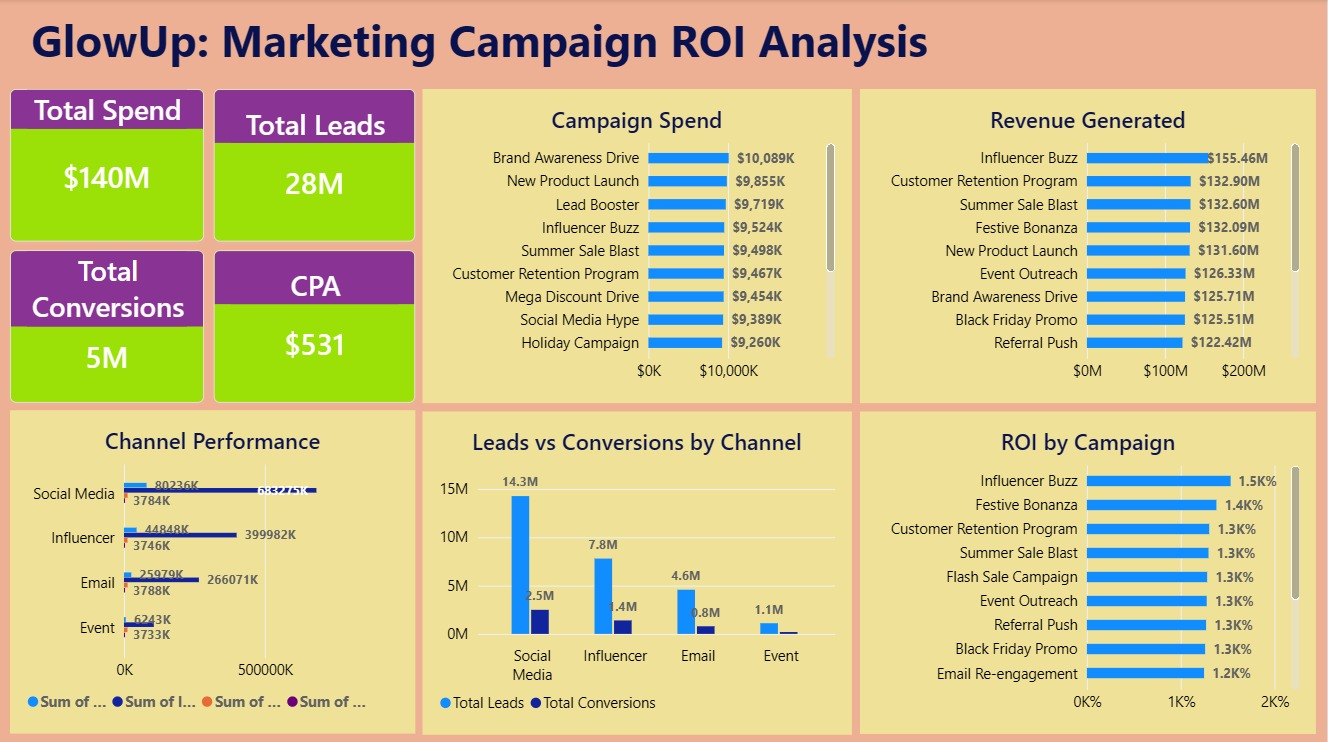

What the dashboard file says about the page in this screenshot:
{"tool":"powerbi","page":{"name":"Page 1","canvas":[1280,720],"ordinal":0},"visuals":[{"type":"textbox","box":[30.3,10.1,947.9,63.5],"z":0},{"type":"barChart","title":"ROI by Campaign","fields":{"Category":["marketing_campaign_dataset_10000_rows.CampaignName"],"Y":["marketing_campaign_dataset_10000_rows.ROI %"]},"box":[830,398.1,440.4,311.3],"z":1000},{"type":"clusteredBarChart","title":"Channel Performance","fields":{"Category":["marketing_campaign_dataset_10000_rows.Channel"],"Y":["Sum(marketing_campaign_dataset_10000_rows.Clicks)","Sum(marketing_campaign_dataset_10000_rows.Impressions)","Sum(marketing_campaign_dataset_10000_rows.Likes)","Sum(marketing_campaign_dataset_10000_rows.Shares)"]},"box":[10.1,396.8,391,311.6],"z":2000},{"type":"clusteredColumnChart","title":"Leads vs Conversions by Channel","fields":{"Category":["marketing_campaign_dataset_10000_rows.Channel"],"Y":["marketing_campaign_dataset_10000_rows.Total Leads","marketing_campaign_dataset_10000_rows.Total Conversions"]},"box":[408.3,398.2,414.1,311.6],"z":3000},{"type":"card","title":"Total Leads","fields":{"Values":["marketing_campaign_dataset_10000_rows.Total Leads"]},"box":[206.3,86.6,194.8,147.2],"z":4000},{"type":"card","title":"Total Conversions","fields":{"Values":["marketing_campaign_dataset_10000_rows.Total Conversions"]},"box":[10.1,242.4,187.6,147.2],"z":5000},{"type":"card","title":"CPA","fields":{"Values":["marketing_campaign_dataset_10000_rows.Average CPA"]},"box":[206.3,242.4,194.8,147.2],"z":6000},{"type":"barChart","title":"Campaign Spend","fields":{"Category":["marketing_campaign_dataset_10000_rows.CampaignName"],"Y":["Sum(marketing_campaign_dataset_10000_rows.Spend)"]},"box":[408.3,86.6,414.1,303],"z":7000},{"type":"barChart","title":"Revenue Generated","fields":{"Category":["marketing_campaign_dataset_10000_rows.CampaignName"],"Y":["Sum(marketing_campaign_dataset_10000_rows.RevenueGenerated)"]},"box":[829.6,86.6,440,303],"z":8000},{"type":"card","title":"Total Spend","fields":{"Values":["Sum(marketing_campaign_dataset_10000_rows.Spend)"]},"box":[9.7,86.9,187,147.2],"z":9000}]}

Visuals, with their boxes in screenshot pixels (x1, y1, x2, y2), scaled from the page's 1280x720 canvas onto the 1328x742 screenshot:
textbox: [31, 10, 1015, 76]
"ROI by Campaign" barChart: [861, 410, 1318, 731]
"Channel Performance" clusteredBarChart: [10, 409, 416, 730]
"Leads vs Conversions by Channel" clusteredColumnChart: [424, 410, 853, 731]
"Total Leads" card: [214, 89, 416, 241]
"Total Conversions" card: [10, 250, 205, 402]
"CPA" card: [214, 250, 416, 402]
"Campaign Spend" barChart: [424, 89, 853, 402]
"Revenue Generated" barChart: [861, 89, 1317, 402]
"Total Spend" card: [10, 90, 204, 241]
